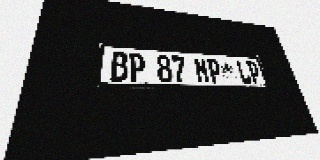7: (171, 55, 188, 82)
8: (156, 54, 173, 82)
B: (110, 51, 128, 81)
L: (235, 60, 253, 84)
M: (193, 57, 211, 83)
P: (129, 52, 146, 82), (206, 58, 223, 83), (246, 61, 263, 84)
